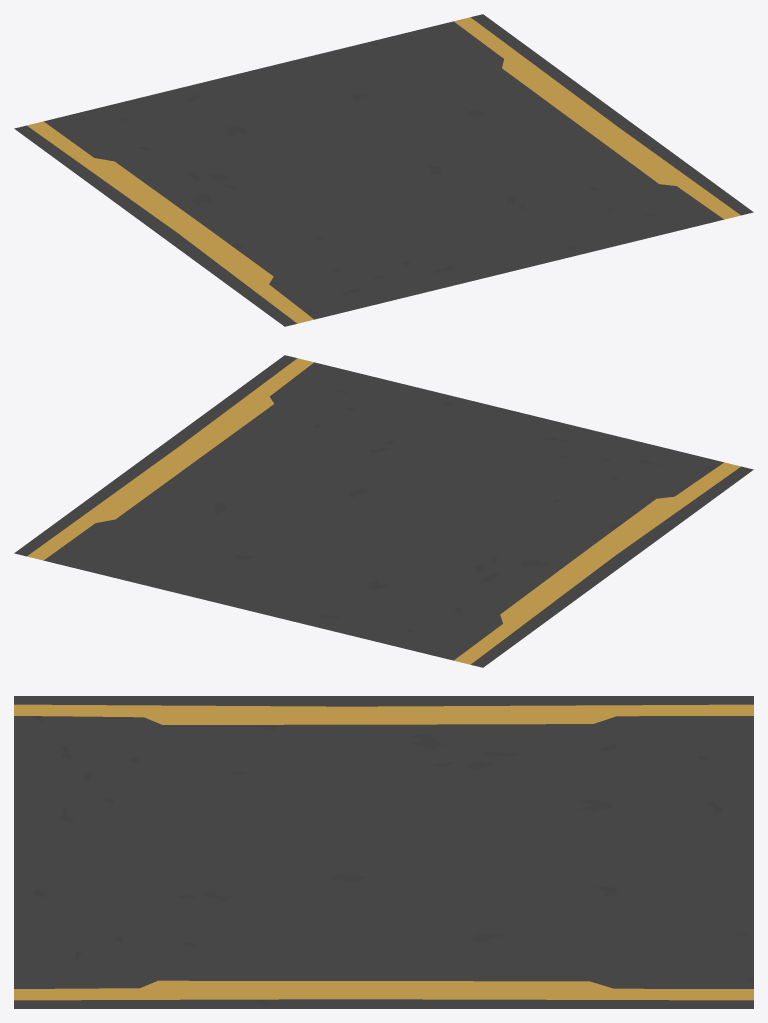
File: SM_Env_Road_Lines_02_SF.fbx
The picture shows the model from 3 angles, top to bottom: view 1: azimuth 30°, elevation 25°; view 2: azimuth 150°, elevation 25°; view 3: azimuth 270°, elevation 25°; orthographic projection. The views are drawn at different scales.
Visible parts, largest first — view 1: SM_Env_Road_Lines_02_SF; view 2: SM_Env_Road_Lines_02_SF; view 3: SM_Env_Road_Lines_02_SF.
Boxes of the visible parts, <box> form: SM_Env_Road_Lines_02_SF: <box>14,14,753,326</box>; SM_Env_Road_Lines_02_SF: <box>14,355,753,667</box>; SM_Env_Road_Lines_02_SF: <box>14,696,753,1008</box>.
Size of the model in its own units: 500 by 0 by 500.
